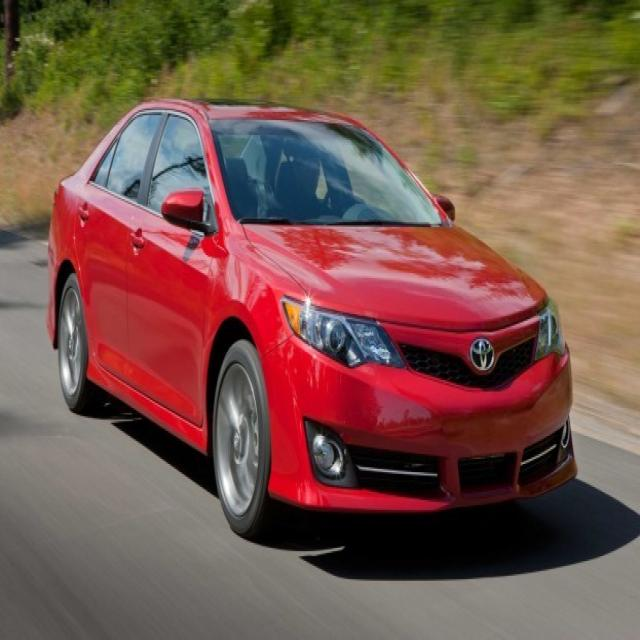car: (38, 91, 587, 561)
